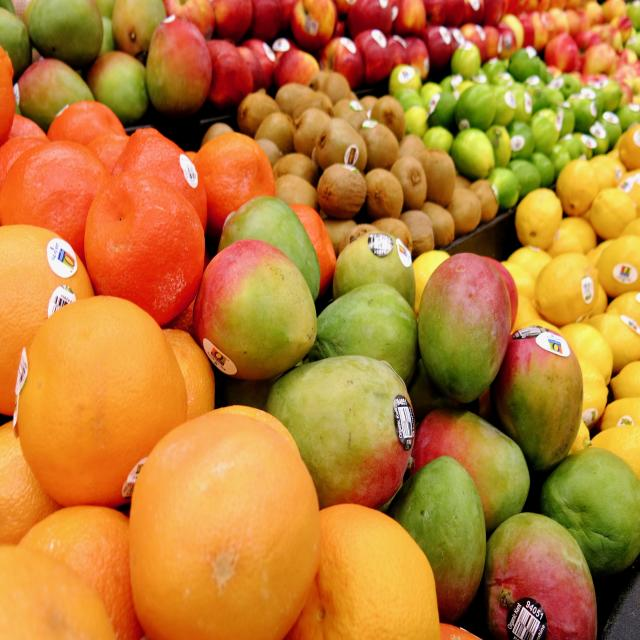Orange: (132, 406, 324, 636), (17, 296, 188, 501), (0, 228, 88, 410), (0, 550, 117, 640), (2, 417, 46, 542), (170, 325, 216, 400)
